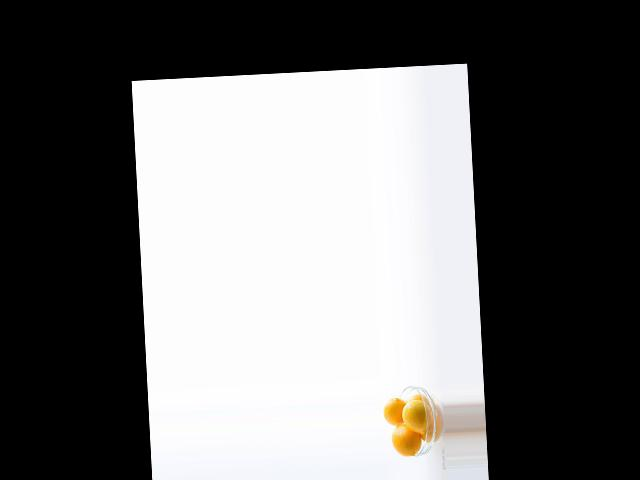lemon: (390, 421, 417, 459)
